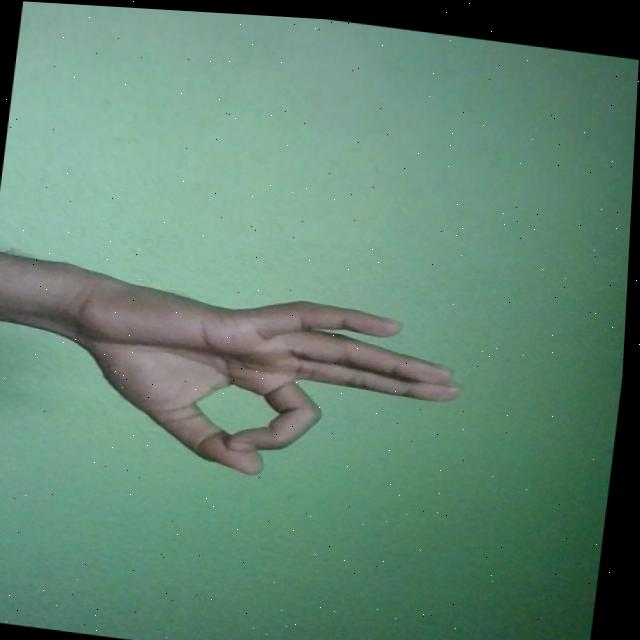Ok: (58, 268, 479, 497)
